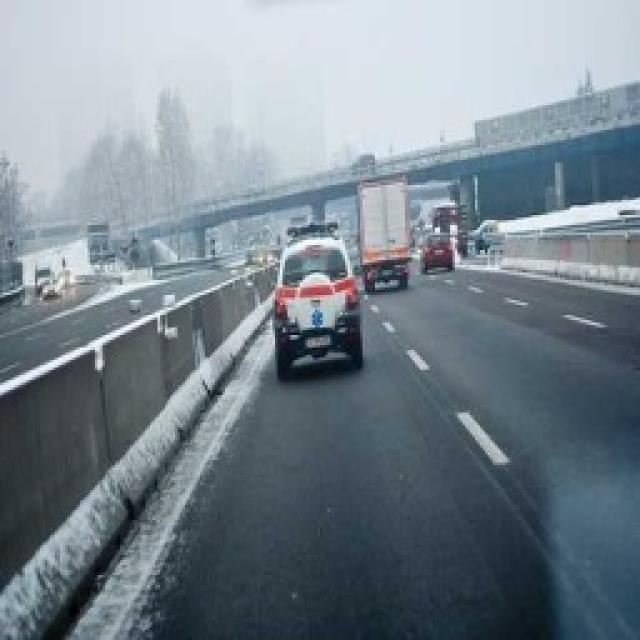emergency-vehicle: (256, 204, 369, 371)
